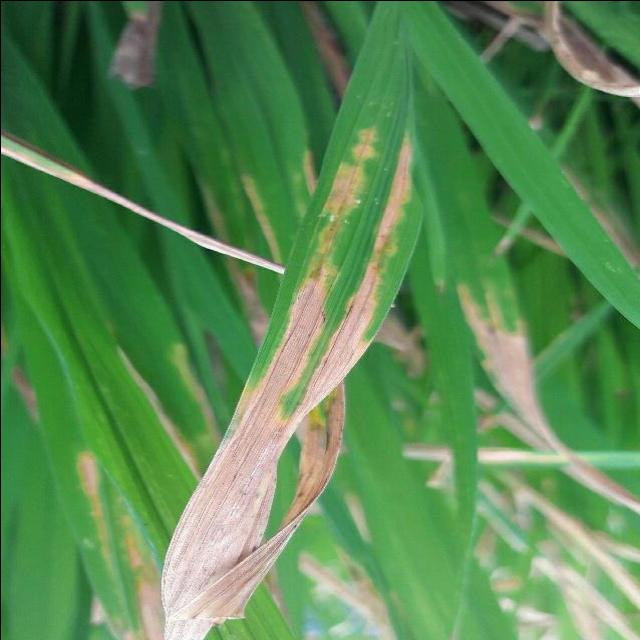Bacterial_Leaf_Blight: (158, 113, 422, 640)
